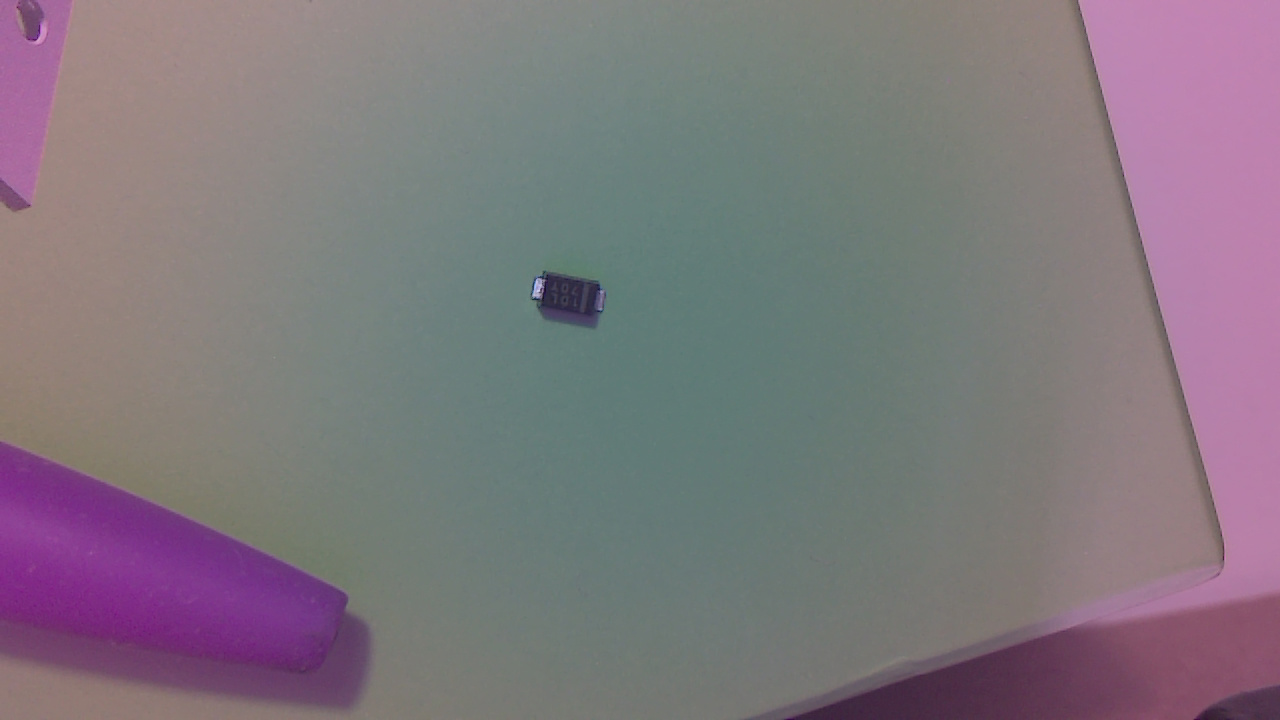Diode: (531, 275, 613, 325)
